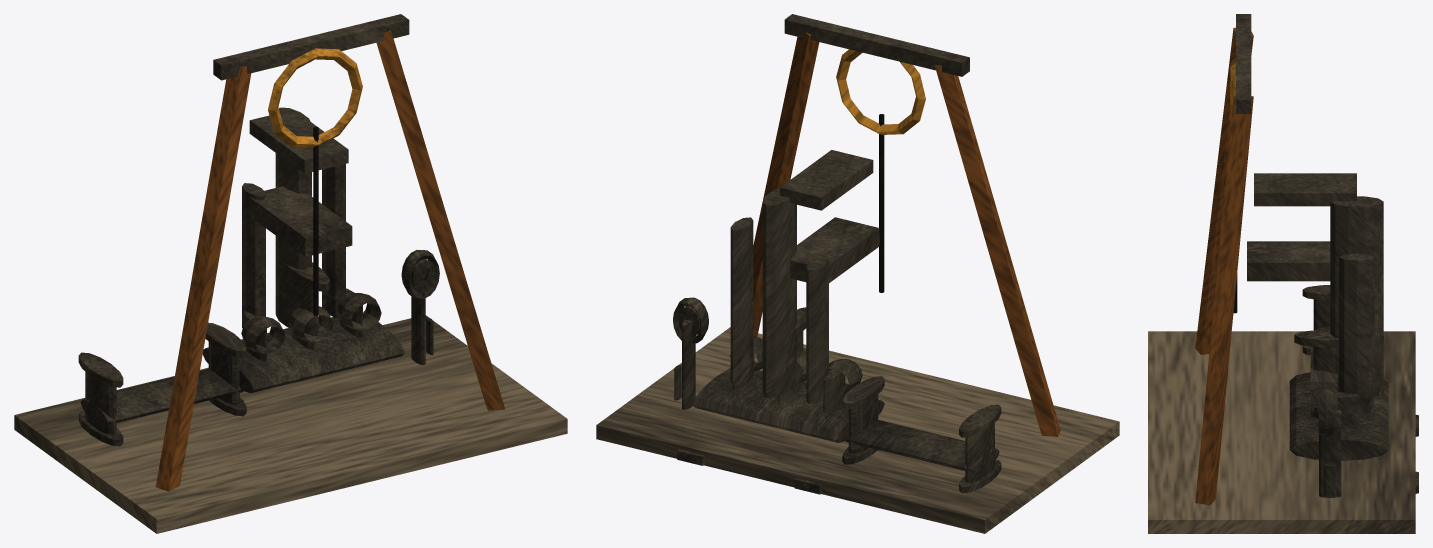
Rendered from lower-yard-engine-crane.glb.
The picture shows the model from 3 angles, left to right: view 1: azimuth 30°, elevation 25°; view 2: azimuth 150°, elevation 25°; view 3: azimuth 270°, elevation 25°; orthographic projection. The views are drawn at different scales.
Parts seen in each view (by area): view 1: lower-yard-engine-crane; view 2: lower-yard-engine-crane; view 3: lower-yard-engine-crane.
Part boxes in pixels (x1,y1,x2,y2): lower-yard-engine-crane: (14, 14, 567, 533); lower-yard-engine-crane: (596, 14, 1119, 533); lower-yard-engine-crane: (1148, 14, 1418, 533).
Bounding box in the file's own units: 7 × 6.62 × 4.25.
Materials: 1 (1 with a texture image).
